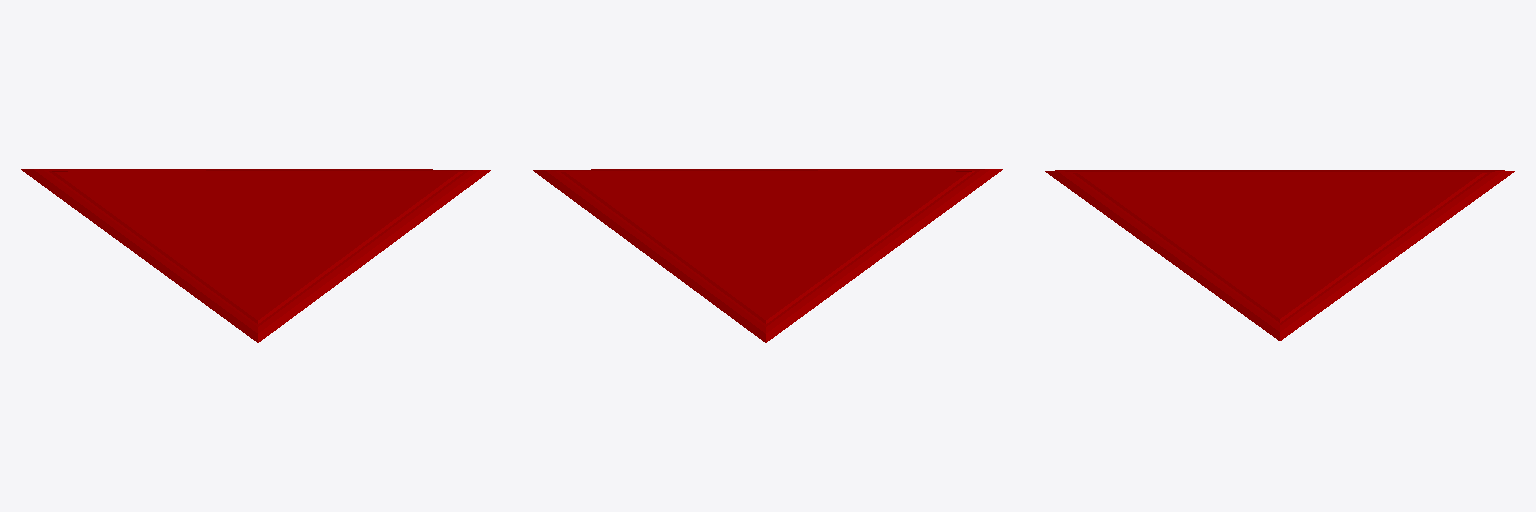
URDF robot description (triangle):
<?xml version="1.0"?>
<!-- created with Phobos 1.0.1 "Capricious Choutengan" -->
  <robot name="triangle">

    <link name="Untitled">
      <inertial>
        <origin xyz="0 0 0" rpy="0 0 0"/>
        <mass value="0.001"/>
        <inertia ixx="0.001" ixy="0" ixz="0" iyy="0.001" iyz="0" izz="0.001"/>
      </inertial>
      <visual name="Miniaturebase 20151107-25899-Phehsx-0">
        <origin xyz="0 0 0" rpy="0 0 0"/>
        <geometry>
          <mesh filename="triangle.stl" scale="0.01976 0.02 0.00333"/>
        </geometry>
        <material name="Material.002"/>
      </visual>
    </link>

    <material name="Material.002">
      <color rgba="0.64 0 0 1.0"/>
    </material>

  </robot>

--- Facts derived from the render (not from the file) ---
Views: 3 orthographic renders of the robot side by side, from view 1: azimuth 30°, elevation 25°; view 2: azimuth 150°, elevation 25°; view 3: azimuth 270°, elevation 25°.
Robot: triangle — 1 links, 0 joints (none); root link Untitled; default pose: every joint at zero.
Visible links, largest first — view 1: Untitled; view 2: Untitled; view 3: Untitled.
Link boxes in pixels (x1,y1,x2,y2): Untitled: (21, 169, 490, 342); Untitled: (533, 169, 1002, 342); Untitled: (1045, 170, 1514, 340).
Size in the robot's own frame: 0.5928 by 0.6928 by 0.01 metres.
Meshes: 1 distinct files referenced, 1 mesh visuals loaded (1 binary STL).
